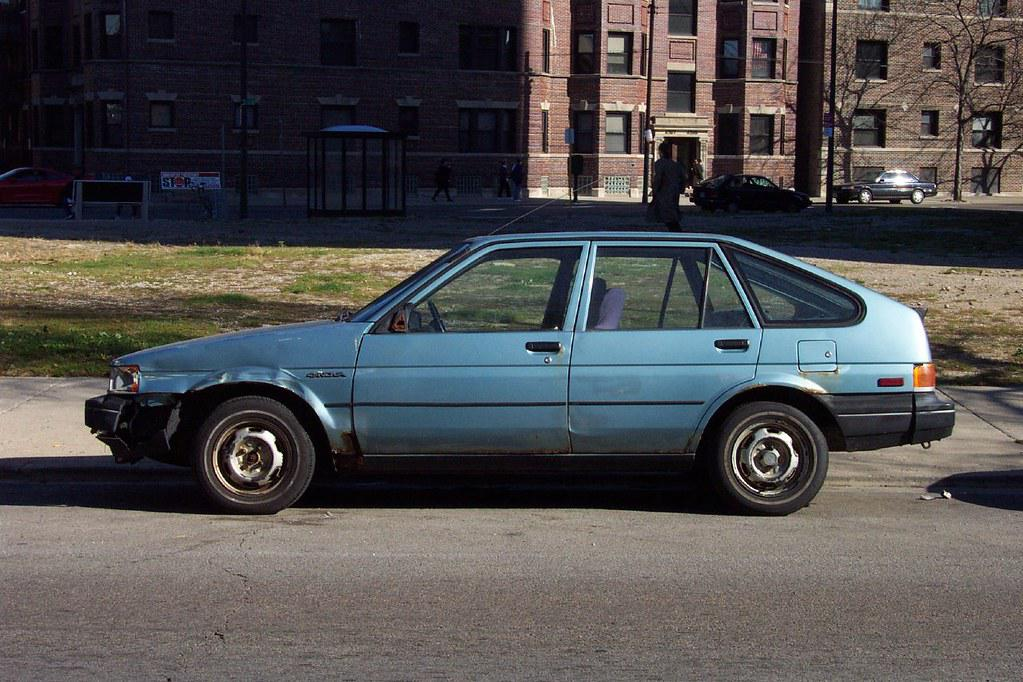fender-dent: (144, 340, 340, 400)
